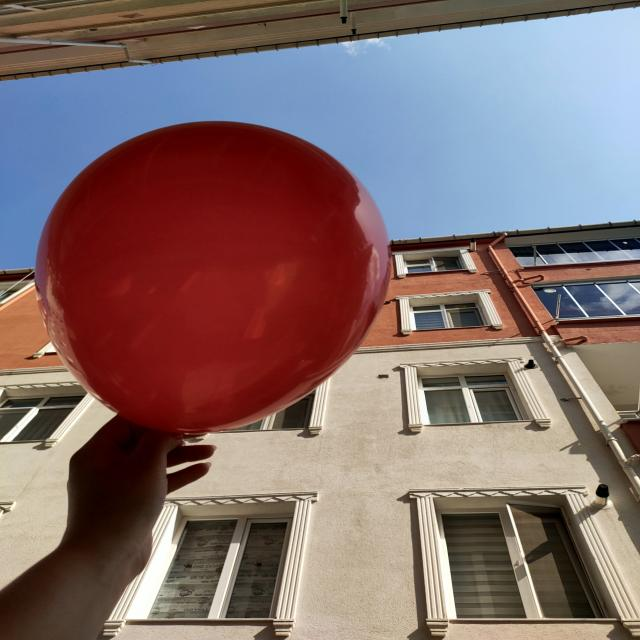red: (39, 121, 390, 436)
